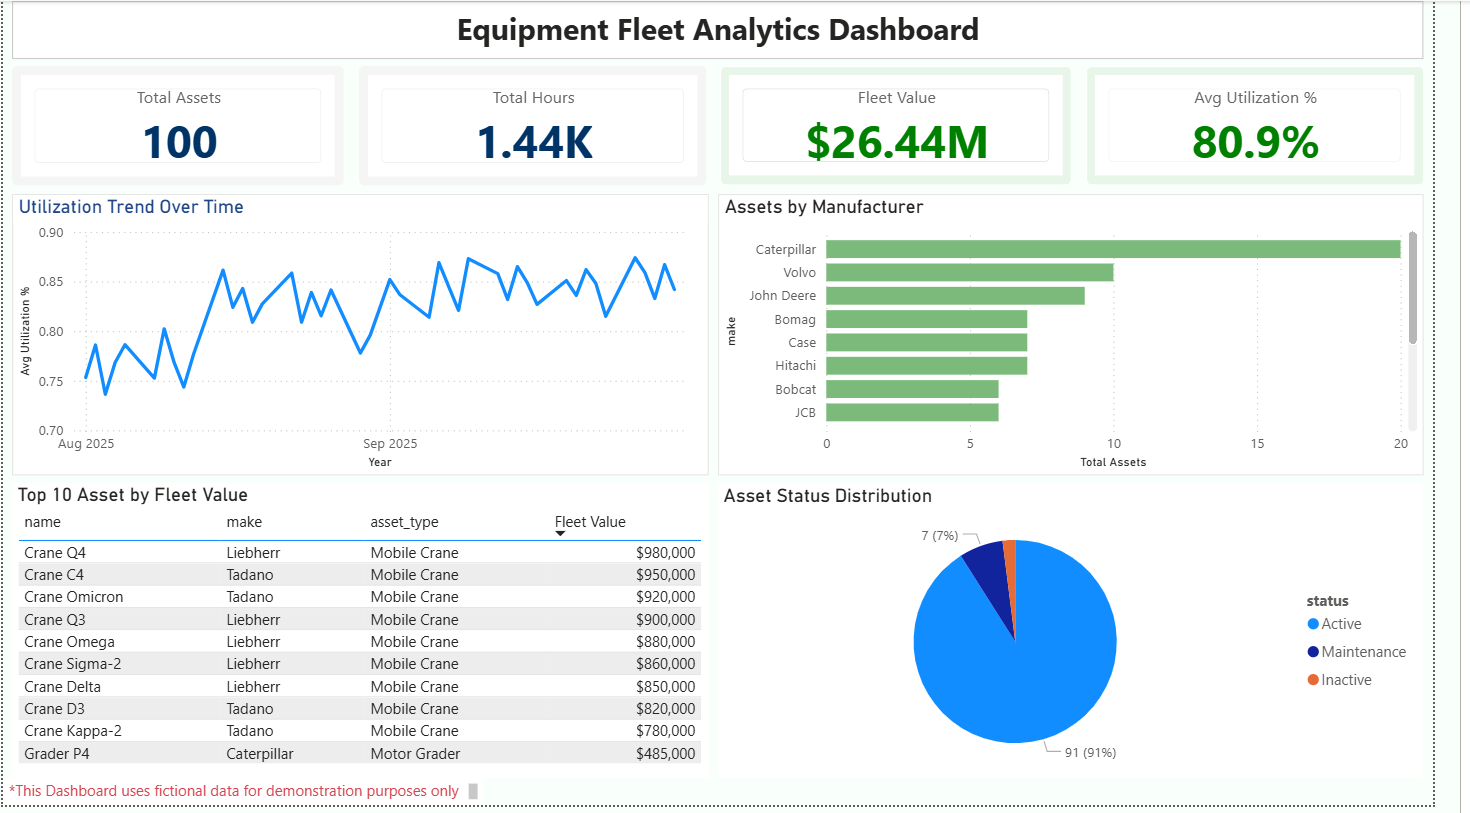

Layout of this report page (visuals, bound fields, positions):
{"tool":"powerbi","page":{"name":"Dashboard","canvas":[1280,720],"ordinal":0},"visuals":[{"type":"cardVisual","fields":{"Data":["_Measures.Total Assets"]},"box":[7.9,58.1,297.2,107.4],"z":0},{"type":"cardVisual","fields":{"Data":["_Measures.Avg Utilization"]},"box":[969.9,58.2,302.7,106.6],"z":1000},{"type":"cardVisual","fields":{"Data":["_Measures.Total Hours"]},"box":[319.1,58.1,311.2,107.4],"z":2000},{"type":"lineChart","title":"Utilization Trend Over Time","fields":{"Y":["_Measures.Avg Utilization %"],"Category":["daily_utilization.date.Variation.Date Hierarchy.Year","daily_utilization.date.Variation.Date Hierarchy.Quarter","daily_utilization.date.Variation.Date Hierarchy.Month","daily_utilization.date.Variation.Date Hierarchy.Day"]},"box":[8.1,172.8,624.2,251.6],"z":3000},{"type":"clusteredBarChart","title":"Assets by Manufacturer","fields":{"Category":["assets.make"],"Y":["_Measures.Total Assets"]},"box":[640.3,172.8,632.2,251.6],"z":4000},{"type":"tableEx","title":"Top 10 Asset by Fleet Value","fields":{"Values":["assets.name","assets.make","assets.asset_type","_Measures.Fleet Value"]},"box":[8.1,431.6,624.2,264.2],"z":5000},{"type":"pieChart","title":"Asset Status Distribution","fields":{"Category":["assets.status"],"Y":["_Measures.Total Assets"]},"box":[640.3,432.5,631.3,263.3],"z":6000},{"type":"cardVisual","fields":{"Data":["_Measures.Fleet Value"]},"box":[641.9,58,315.1,107],"z":7000},{"type":"textbox","box":[7.8,0,1264.4,51.6],"z":8000},{"type":"textbox","box":[0,695.8,429.9,24.2],"z":8001}]}

Visuals, with their boxes in screenshot pixels (x1, y1, x2, y2), scaled from the page's 1280x720 canvas onto the 1470x813 screenshot:
cardVisual - _Measures.Total Assets: 9:66:350:187
cardVisual - _Measures.Avg Utilization: 1114:66:1462:186
cardVisual - _Measures.Total Hours: 366:66:724:187
"Utilization Trend Over Time" lineChart: 9:195:726:479
"Assets by Manufacturer" clusteredBarChart: 735:195:1461:479
"Top 10 Asset by Fleet Value" tableEx: 9:487:726:786
"Asset Status Distribution" pieChart: 735:488:1460:786
cardVisual - _Measures.Fleet Value: 737:65:1099:186
textbox: 9:0:1461:58
textbox: 0:786:494:812
